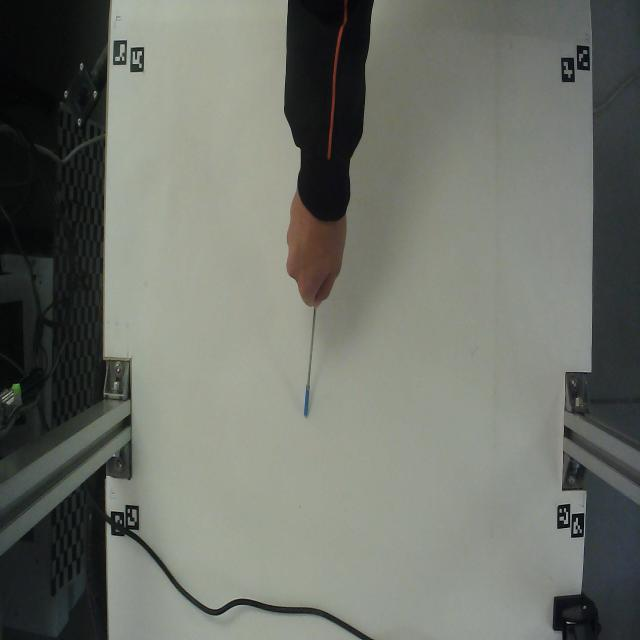Pres: (290, 288, 332, 442)
